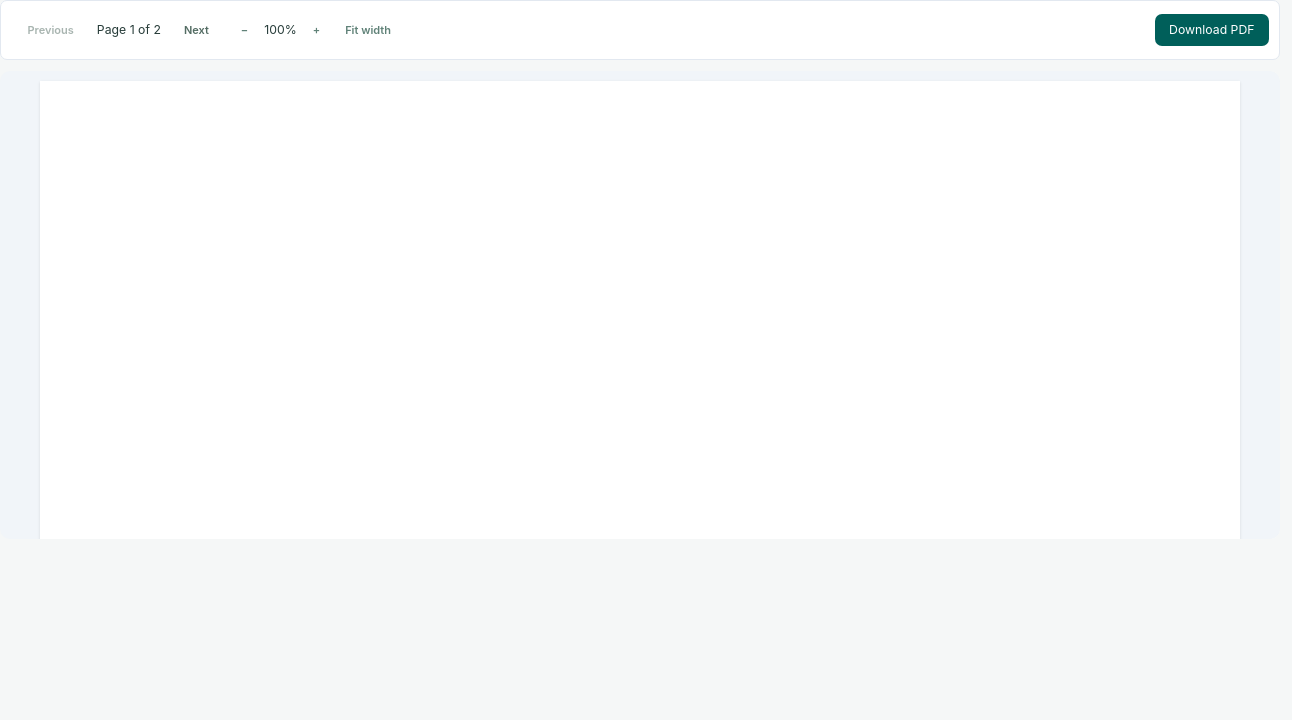
Test case: renders PDF pages with paging, zoom, download and cleanup controls
The width and height of the screenshot is (1292, 720).
Check: the text "Page 1 of 2" is shown, box x1=97 y1=21 x2=161 y2=39
Step 1. Click the button "Next" → point(196, 30), box x1=168 y1=12 x2=225 y2=49
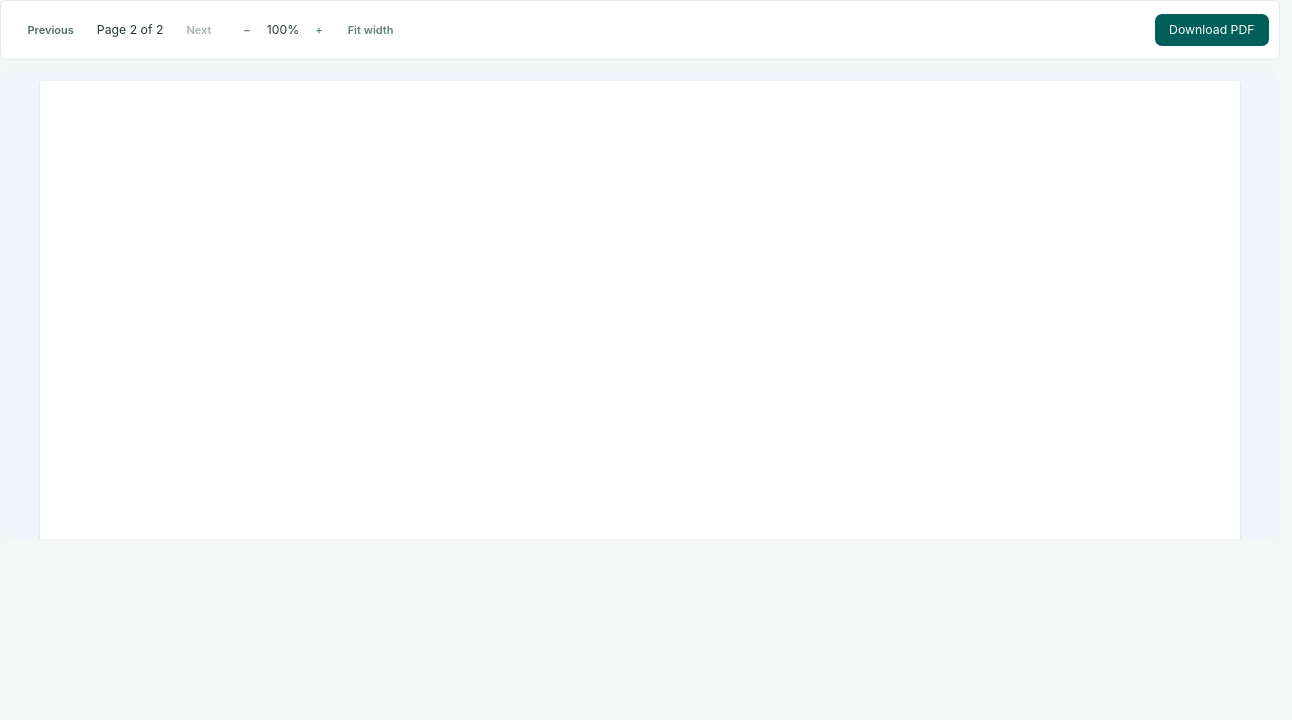
Check: the text "Page 2 of 2" is shown, box x1=97 y1=21 x2=163 y2=39
Step 2. Click the button named "Zoom in" → point(319, 30), box x1=306 y1=14 x2=332 y2=46
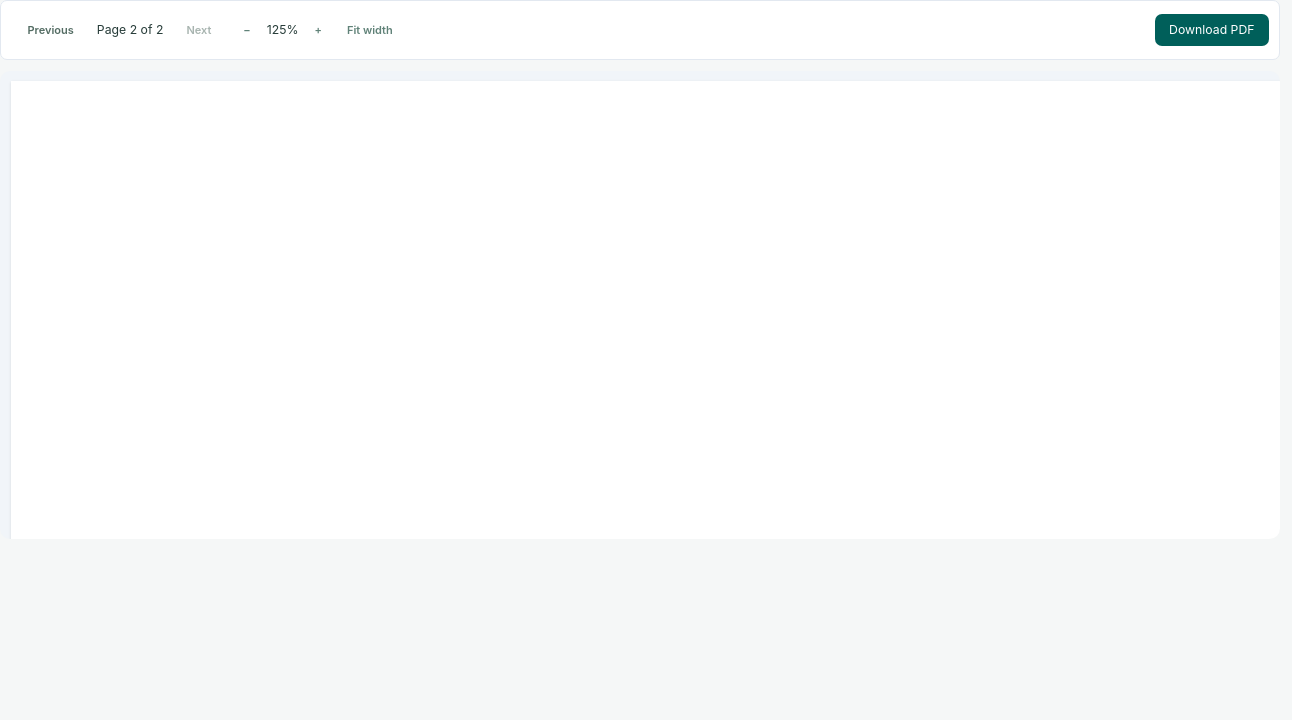
Check: the text "125%" is shown, box x1=267 y1=21 x2=299 y2=39
